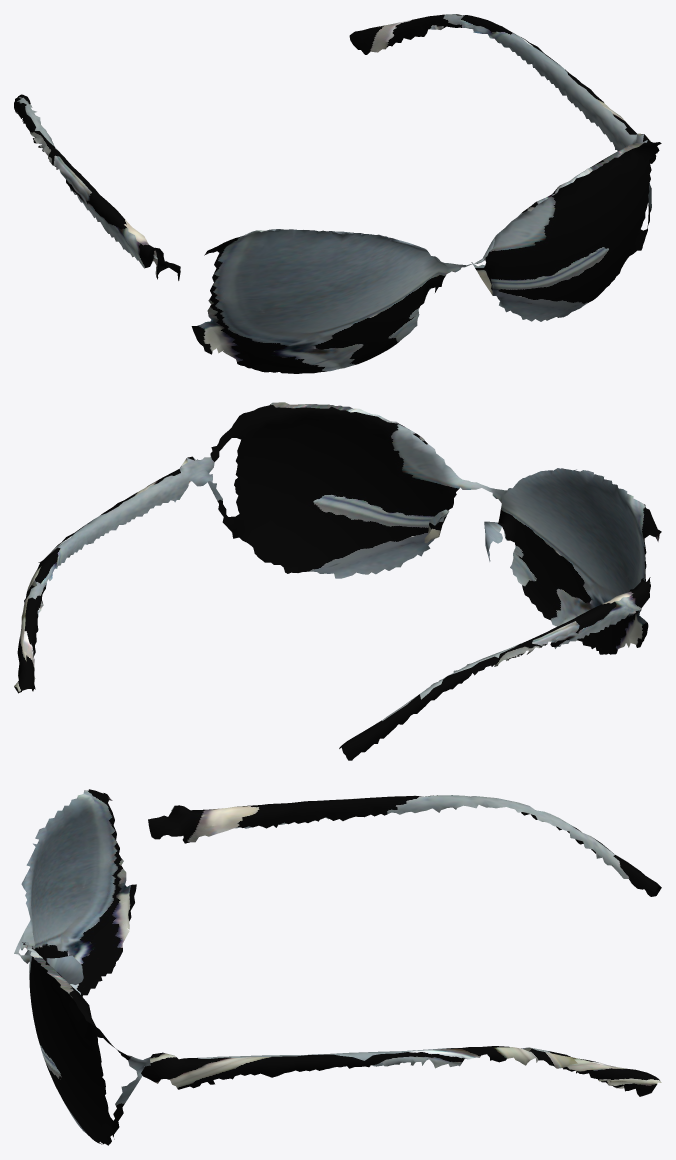
Rendered from scan_align.obj.
3 views of the same model, one above another, from view 1: azimuth 30°, elevation 25°; view 2: azimuth 150°, elevation 25°; view 3: azimuth 270°, elevation 25° (orthographic). The views are drawn at different scales.
Size of the model in its own units: 0.1502 by 0.0465 by 0.1581.
